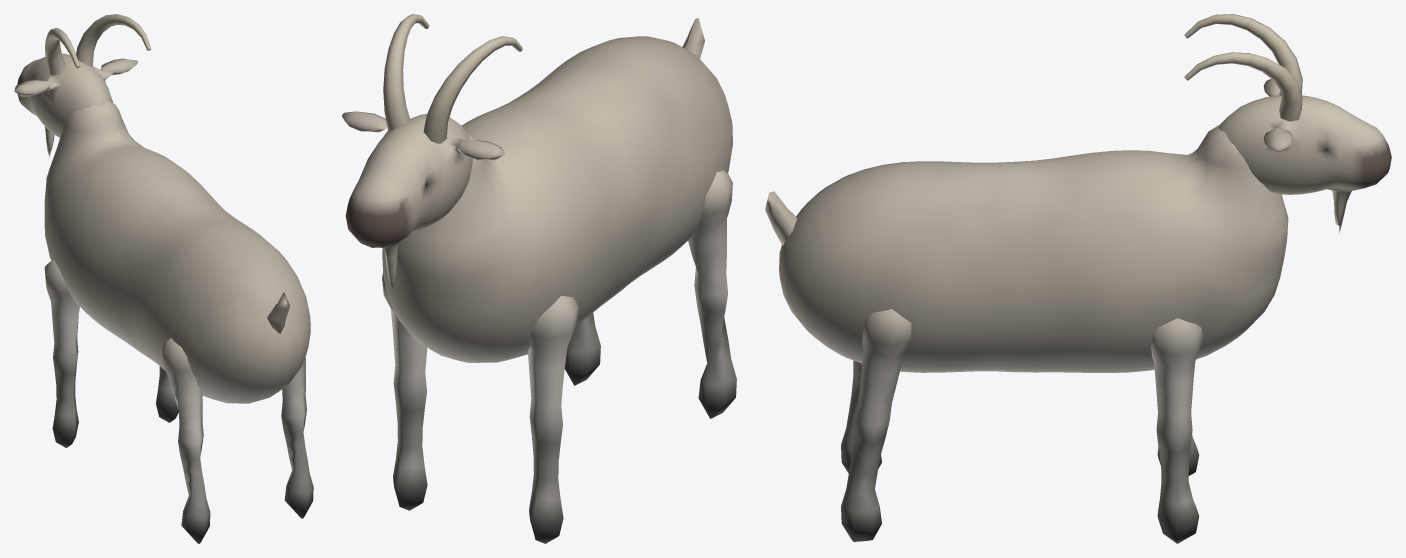
Rendered from animal_goat.glb.
The picture shows the model from 3 angles, left to right: view 1: azimuth 30°, elevation 25°; view 2: azimuth 150°, elevation 25°; view 3: azimuth 270°, elevation 25°; orthographic projection. The views are drawn at different scales.
Parts seen in each view (by area): view 1: Body, Head, Leg_BL, Leg_FL, Leg_BR, Leg_FR, Tail; view 2: Body, Head, Leg_FL, Leg_BL, Leg_FR, Leg_BR, Tail; view 3: Body, Head, Leg_BR, Leg_FR, Leg_BL, Tail.
Part boxes in pixels (x1=…): Body: x1=44, y1=101, x2=310, y2=403; Head: x1=14, y1=14, x2=150, y2=157; Leg_BL: x1=162, y1=338, x2=210, y2=543; Leg_FL: x1=44, y1=260, x2=79, y2=447; Leg_BR: x1=281, y1=338, x2=313, y2=518; Leg_FR: x1=156, y1=366, x2=178, y2=422; Tail: x1=267, y1=292, x2=289, y2=333; Body: x1=382, y1=36, x2=732, y2=362; Head: x1=342, y1=14, x2=522, y2=290; Leg_FL: x1=527, y1=295, x2=578, y2=543; Leg_BL: x1=688, y1=170, x2=736, y2=418; Leg_FR: x1=382, y1=273, x2=427, y2=510; Leg_BR: x1=564, y1=313, x2=600, y2=385; Tail: x1=682, y1=18, x2=704, y2=58; Body: x1=779, y1=124, x2=1288, y2=372; Head: x1=1184, y1=14, x2=1391, y2=233; Leg_BR: x1=841, y1=309, x2=911, y2=541; Leg_FR: x1=1151, y1=318, x2=1202, y2=543; Leg_BL: x1=841, y1=360, x2=881, y2=473; Tail: x1=765, y1=191, x2=797, y2=244.
Bounding box in the file's own units: 0.4461 × 1.17 × 1.38.
